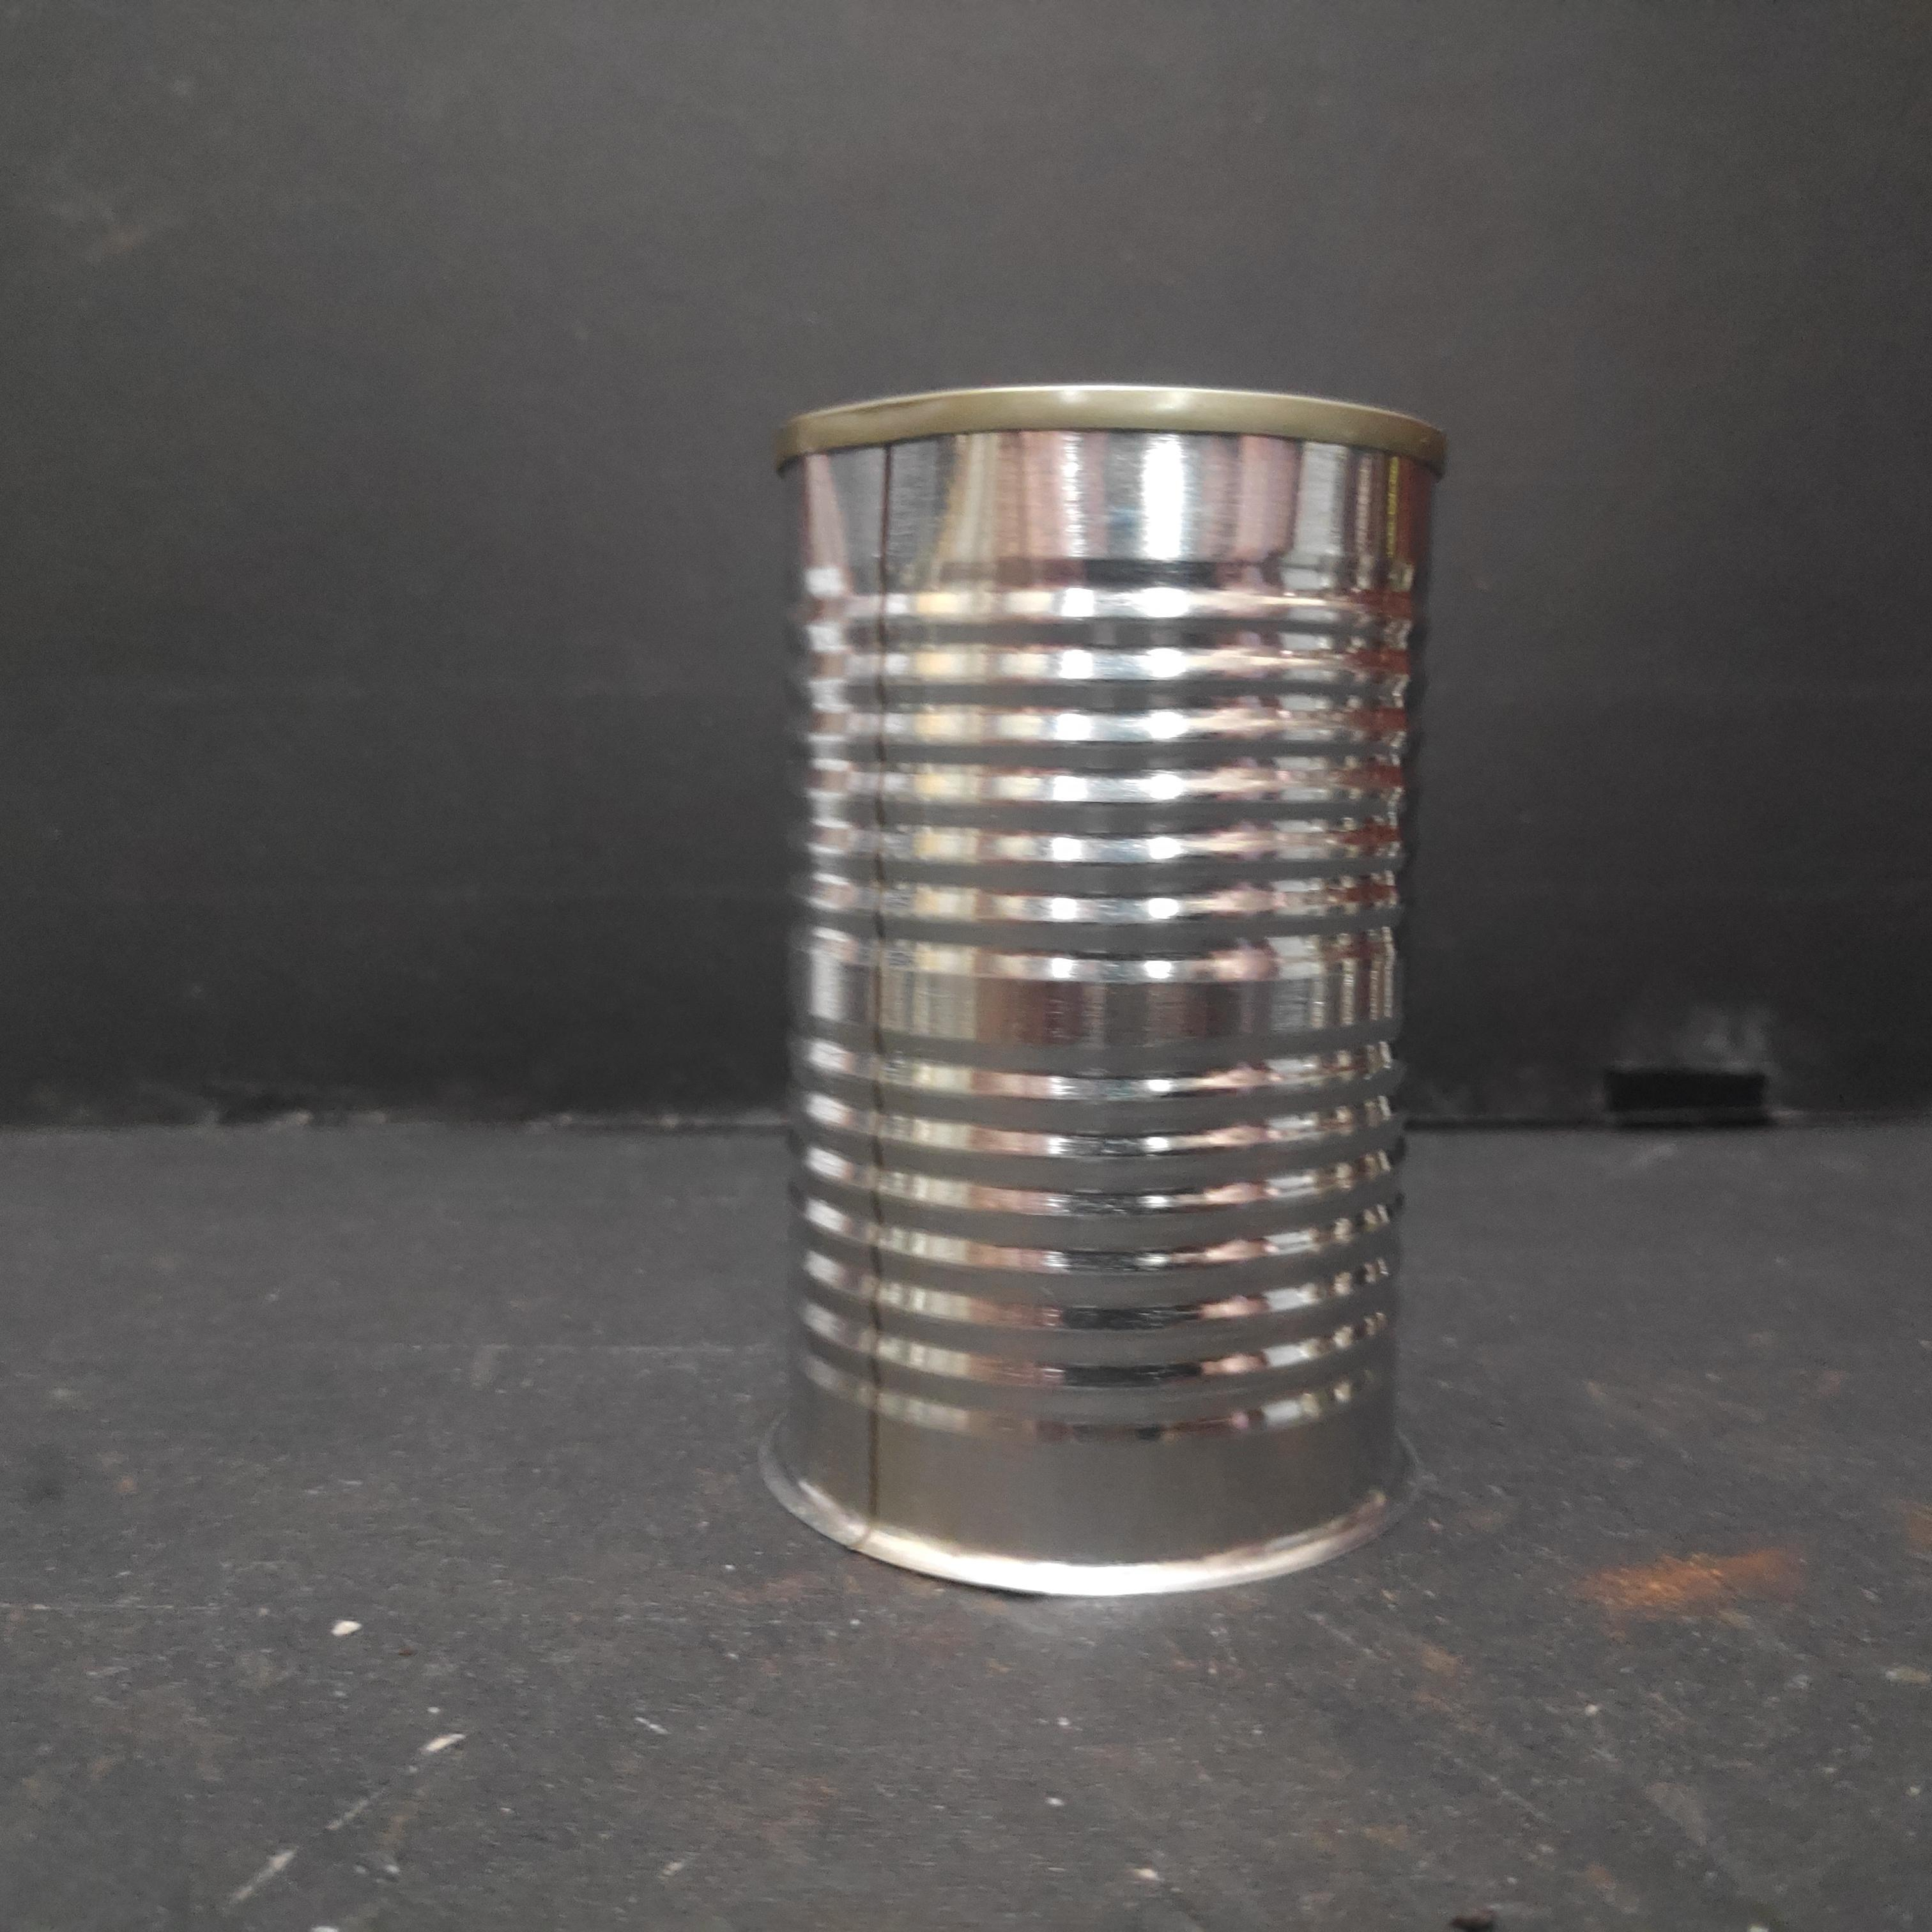Minor Defect: (755, 377, 1456, 1615)
